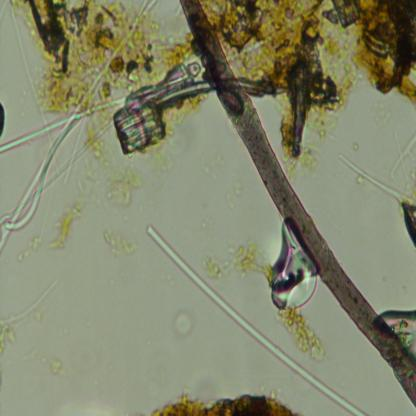Air bubble: (270, 249, 320, 312), (385, 304, 416, 348)
Background material: (10, 0, 199, 148), (218, 0, 352, 157), (339, 0, 416, 105), (16, 202, 86, 261), (151, 389, 297, 416), (204, 238, 274, 285), (279, 310, 326, 363), (99, 155, 145, 209), (104, 227, 140, 258), (403, 196, 416, 246), (226, 178, 245, 209), (173, 312, 196, 337), (46, 356, 70, 378), (0, 325, 15, 351)
Diatom: (113, 101, 165, 157), (332, 0, 361, 28)
Glass filter fibre: (146, 224, 367, 414), (0, 117, 84, 251), (0, 94, 124, 154), (44, 121, 112, 188), (11, 7, 48, 130), (335, 152, 413, 202), (0, 280, 58, 326)
Microfibre: (179, 0, 416, 371)
